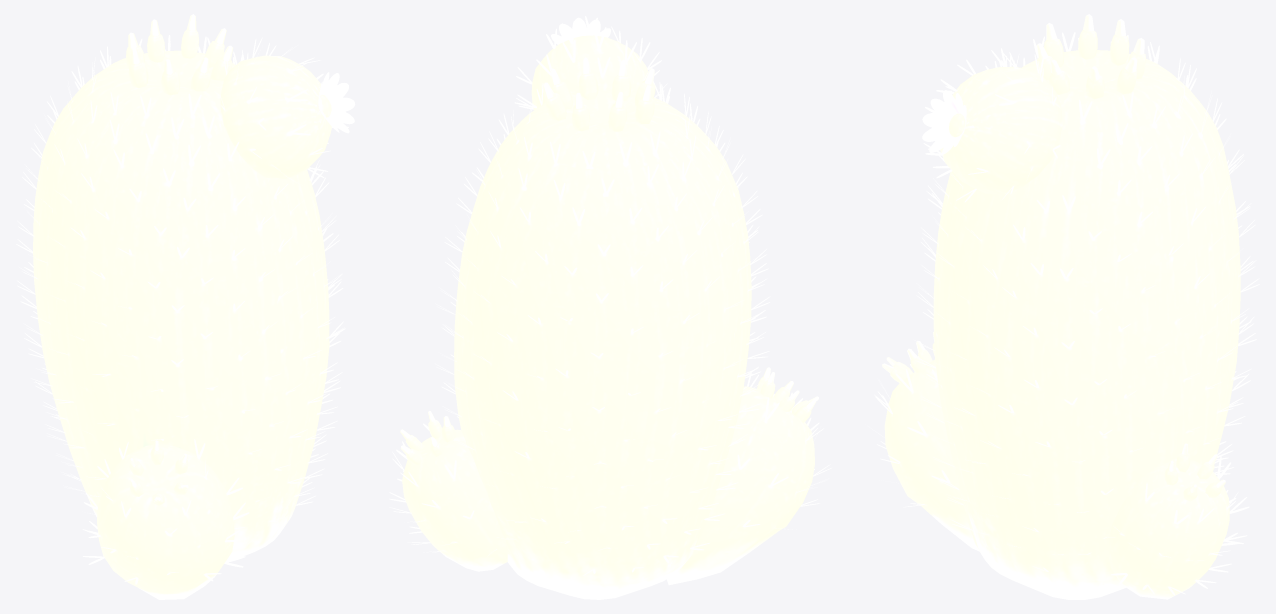
The picture shows the model from 3 angles, left to right: view 1: azimuth 30°, elevation 25°; view 2: azimuth 150°, elevation 25°; view 3: azimuth 270°, elevation 25°; orthographic projection. The views are drawn at different scales.
Parts seen in each view (by area): view 1: SM_Cactus_Barrel_LOD0; view 2: SM_Cactus_Barrel_LOD0; view 3: SM_Cactus_Barrel_LOD0.
Part boxes in pixels (x1,y1,x2,y2): SM_Cactus_Barrel_LOD0: (16, 14, 355, 599); SM_Cactus_Barrel_LOD0: (389, 16, 831, 599); SM_Cactus_Barrel_LOD0: (868, 14, 1259, 599).
Bounding box in the file's own units: 1.62 × 2.57 × 1.66.
1 material, 1 textured.
